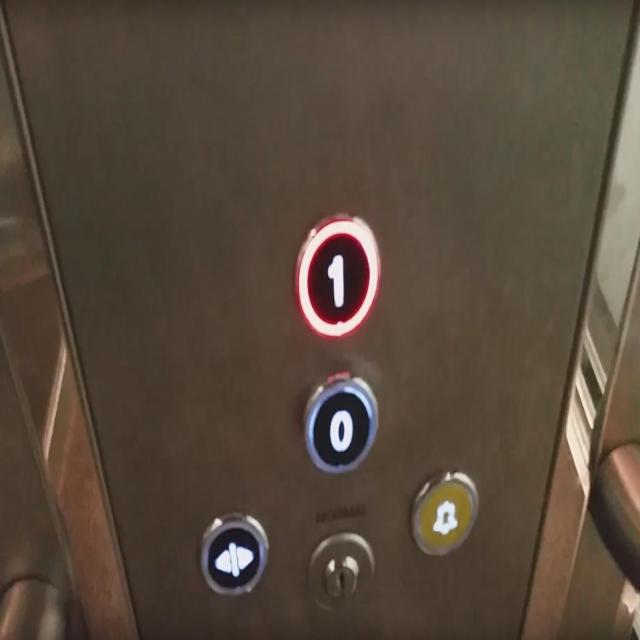0: (302, 372, 378, 474)
1: (294, 210, 381, 344)
alarm: (410, 468, 478, 557)
keyhole: (306, 532, 376, 611)
open: (201, 511, 268, 596)
